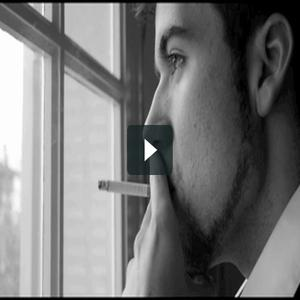cigarette: (96, 176, 157, 200)
